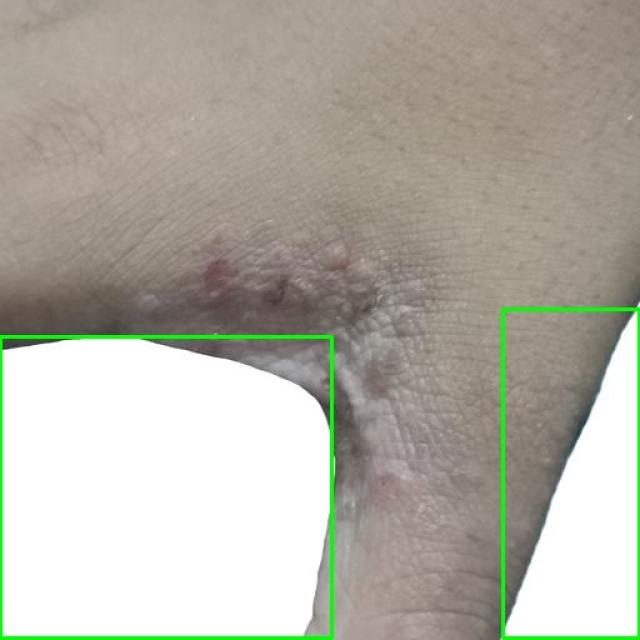Scabies: (0, 338, 332, 639), (502, 309, 639, 639)
